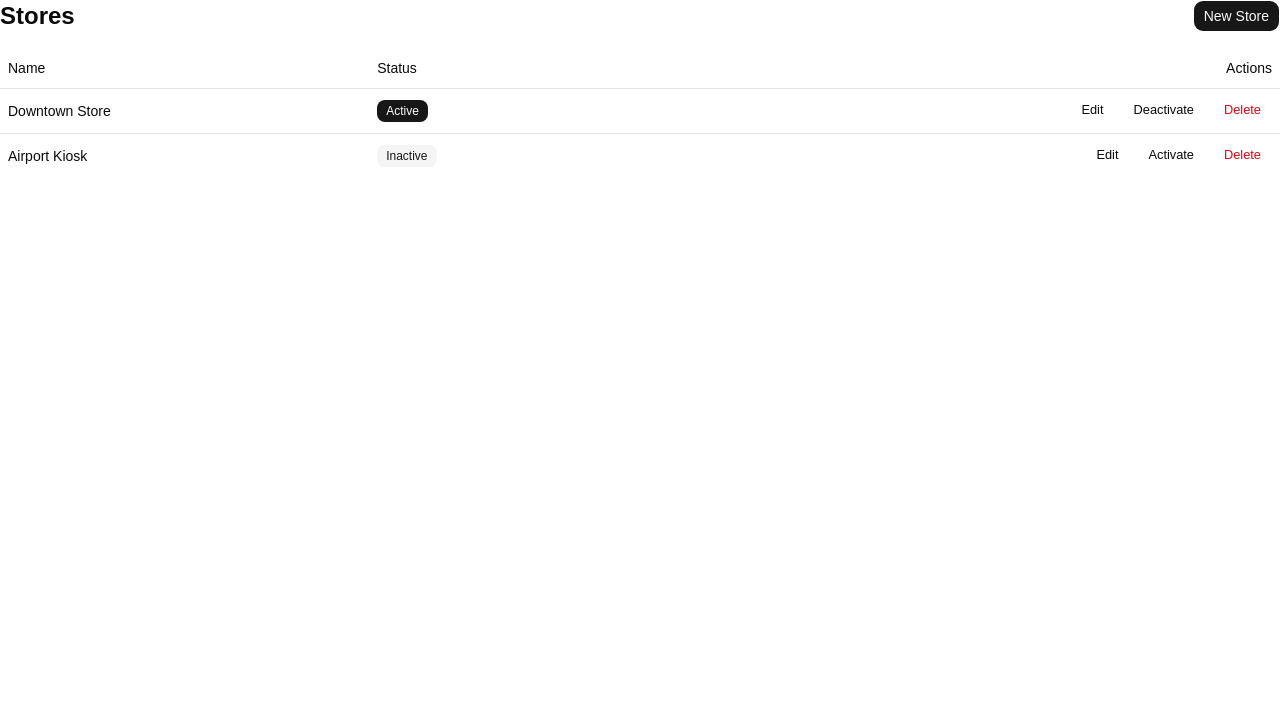
StoresPage › opens create dialog when clicking New Store
Expected: the text "Downtown Store" is shown, [0,88,369,133]
Step 1. Click the button "New Store" → click(1236, 16), box [1193,0,1279,32]
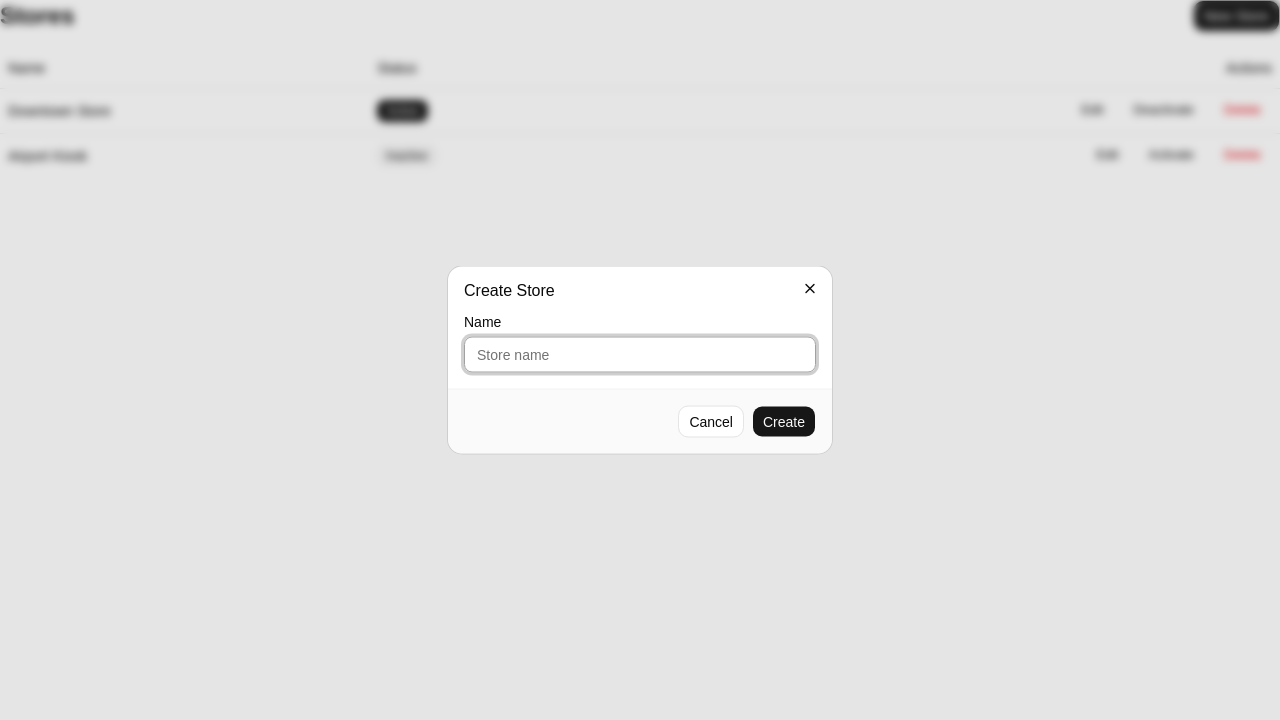
Result: the heading "Create Store" is shown at [464,282,555,298]
